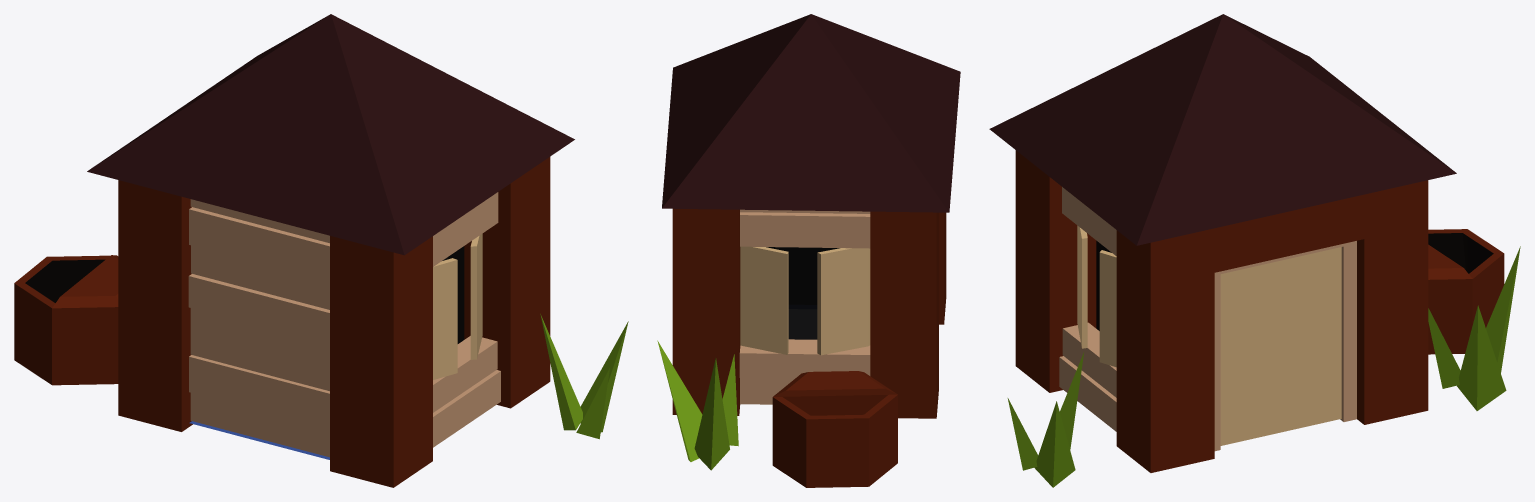
Rendered from Human-WoodenHouse.fbx.
3 views of the same model, side by side, from view 1: azimuth 30°, elevation 25°; view 2: azimuth 150°, elevation 25°; view 3: azimuth 270°, elevation 25° (orthographic). The views are drawn at different scales.
Visible parts, largest first — view 1: Human-Wooden-House; view 2: Human-Wooden-House; view 3: Human-Wooden-House.
Part boxes in pixels (left/top/right/bottom): Human-Wooden-House: left=14, top=14, right=628, bottom=487; Human-Wooden-House: left=657, top=14, right=960, bottom=487; Human-Wooden-House: left=989, top=14, right=1520, bottom=487.
Size of the model in its own units: 0.865 by 0.9971 by 0.816.
